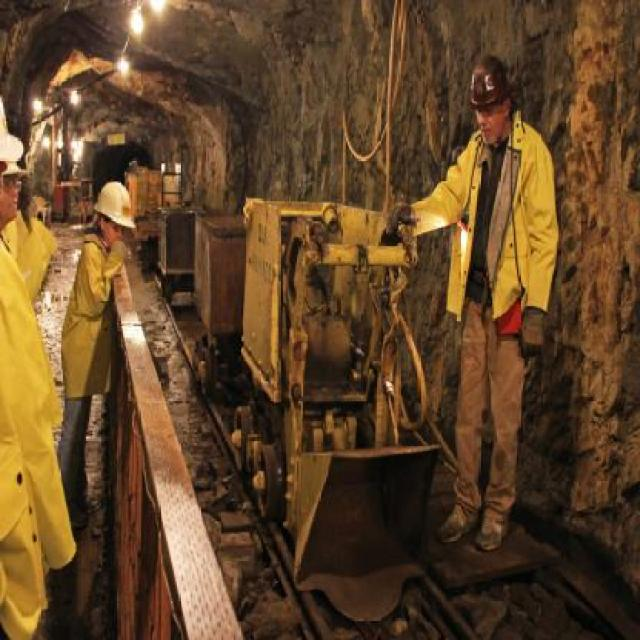Person: (422, 57, 560, 581)
